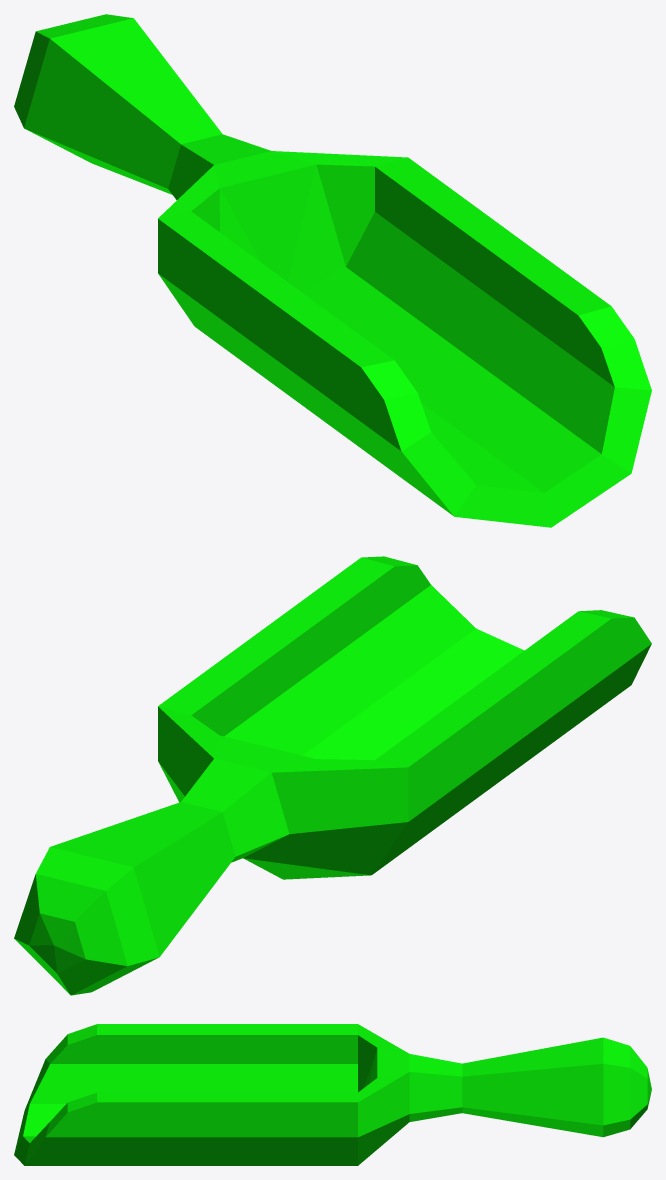
The model's file is SM_Spoon_Wooden_Oblong_Fantasy.fbx.
3 views of the same model, one above another, from view 1: azimuth 30°, elevation 25°; view 2: azimuth 150°, elevation 25°; view 3: azimuth 270°, elevation 25° (orthographic). The views are drawn at different scales.
Visible parts, largest first — view 1: spoon-wooden-oblong-fantasy; view 2: spoon-wooden-oblong-fantasy; view 3: spoon-wooden-oblong-fantasy.
Part boxes in pixels (x1,y1,x2,y2): spoon-wooden-oblong-fantasy: (14,14,651,527); spoon-wooden-oblong-fantasy: (14,556,651,995); spoon-wooden-oblong-fantasy: (14,1024,651,1165).
Bounding box in the file's own units: 0.0765 × 0.0476 × 0.2632.
